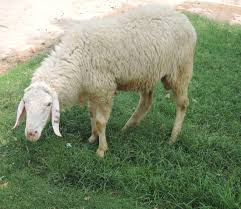koyun: (13, 9, 197, 159)
